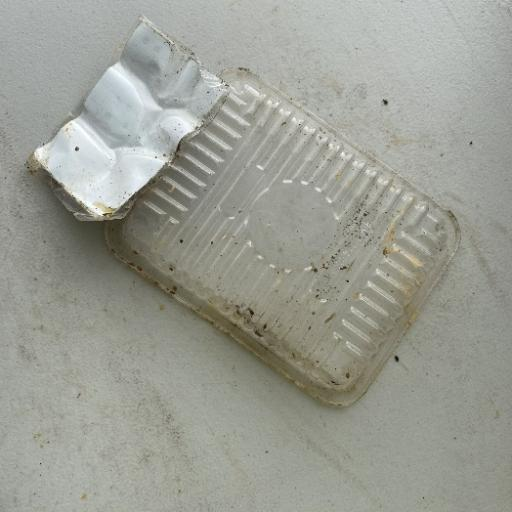Plastic: (25, 15, 462, 410)
